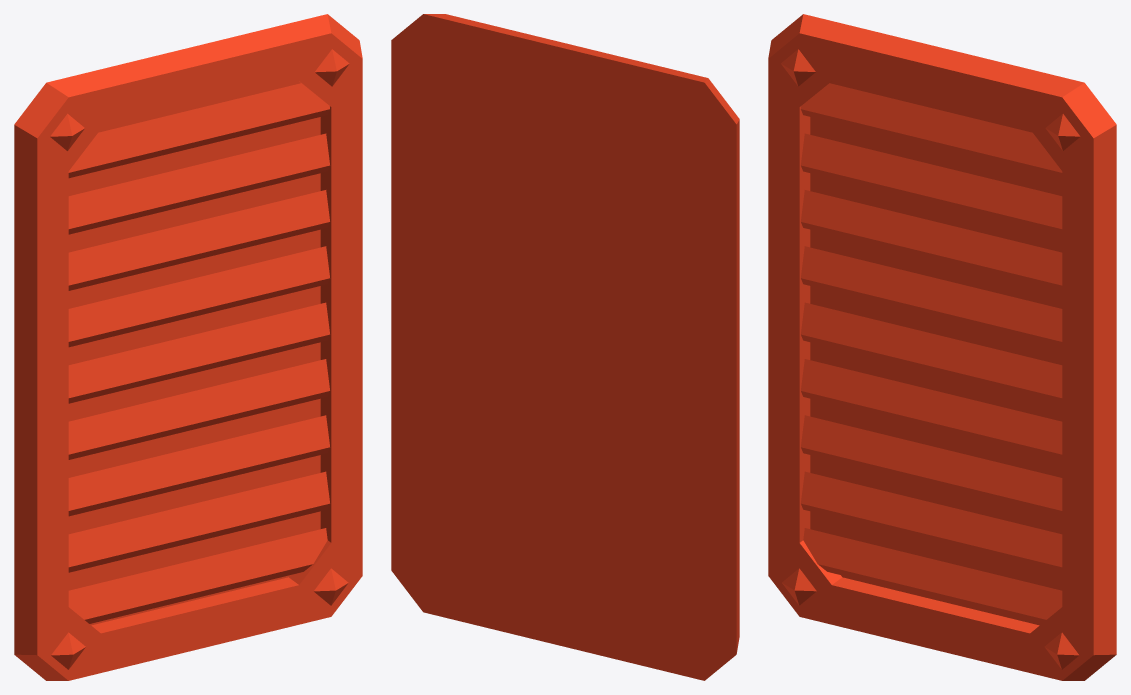
The model's file is SM_Vent_Door_B_City.fbx.
3 renders of one model, left to right at view 1: azimuth 30°, elevation 25°; view 2: azimuth 150°, elevation 25°; view 3: azimuth 330°, elevation 25°, orthographic.
Visible parts, largest first — view 1: SM_Vent_Door_B_City; view 2: SM_Vent_Door_B_City; view 3: SM_Vent_Door_B_City.
Boxes of the visible parts, x1,y1,x2,y2 form: SM_Vent_Door_B_City: (14, 14, 362, 680); SM_Vent_Door_B_City: (391, 14, 739, 680); SM_Vent_Door_B_City: (768, 14, 1116, 680).
Bounding box in the file's own units: 0.2911 × 0.4818 × 0.0262.
